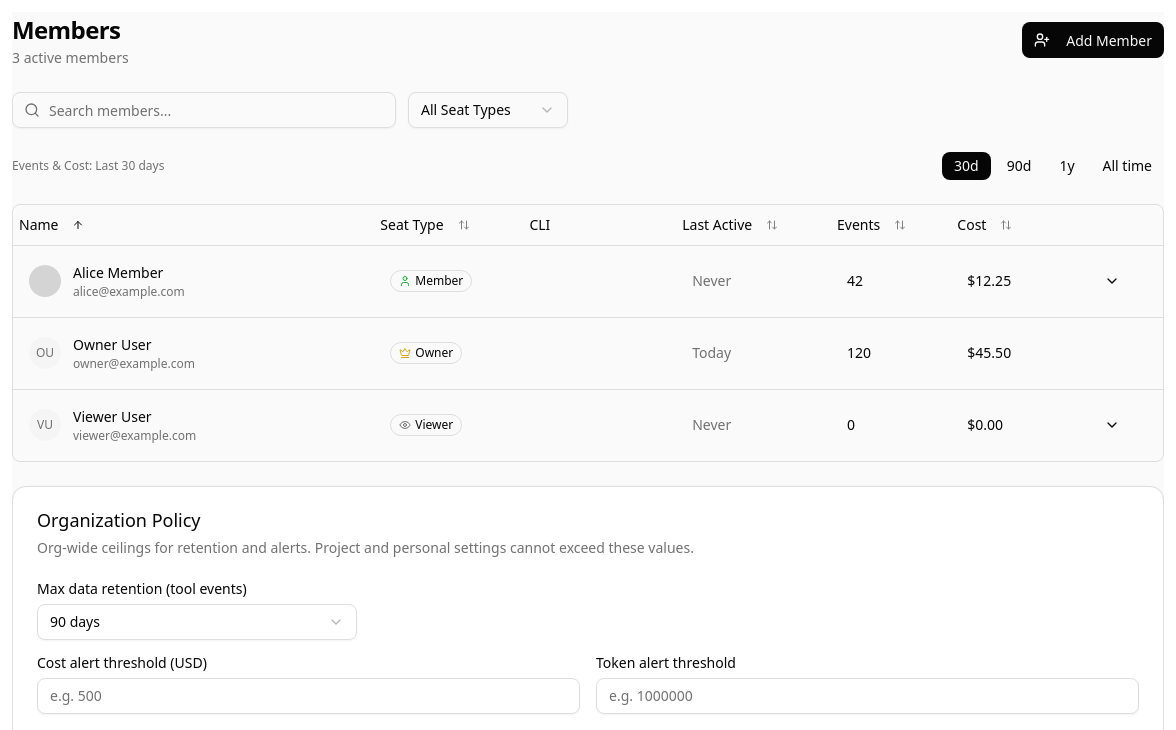
Test: Members › owner access › filters members by seat type
Click the dropdown "All Seat Types" at (488, 110), box [408,92,568,128]
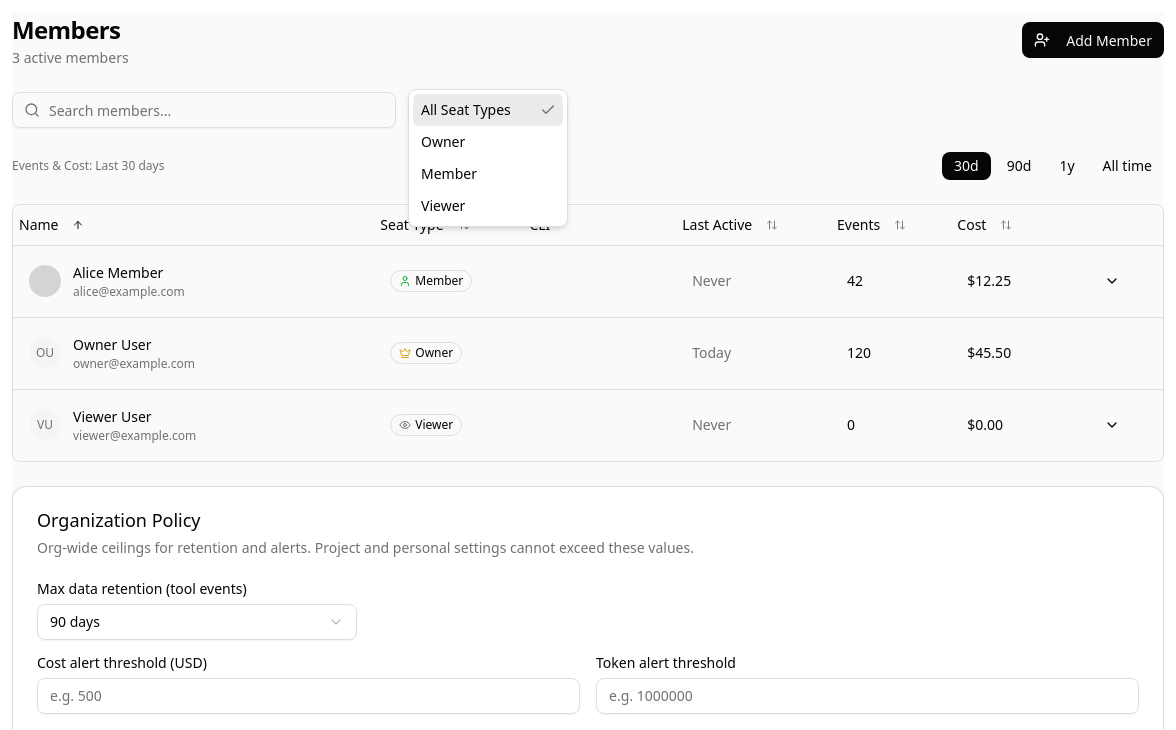
Click the option "Viewer" at (443, 206), box [421,196,465,215]
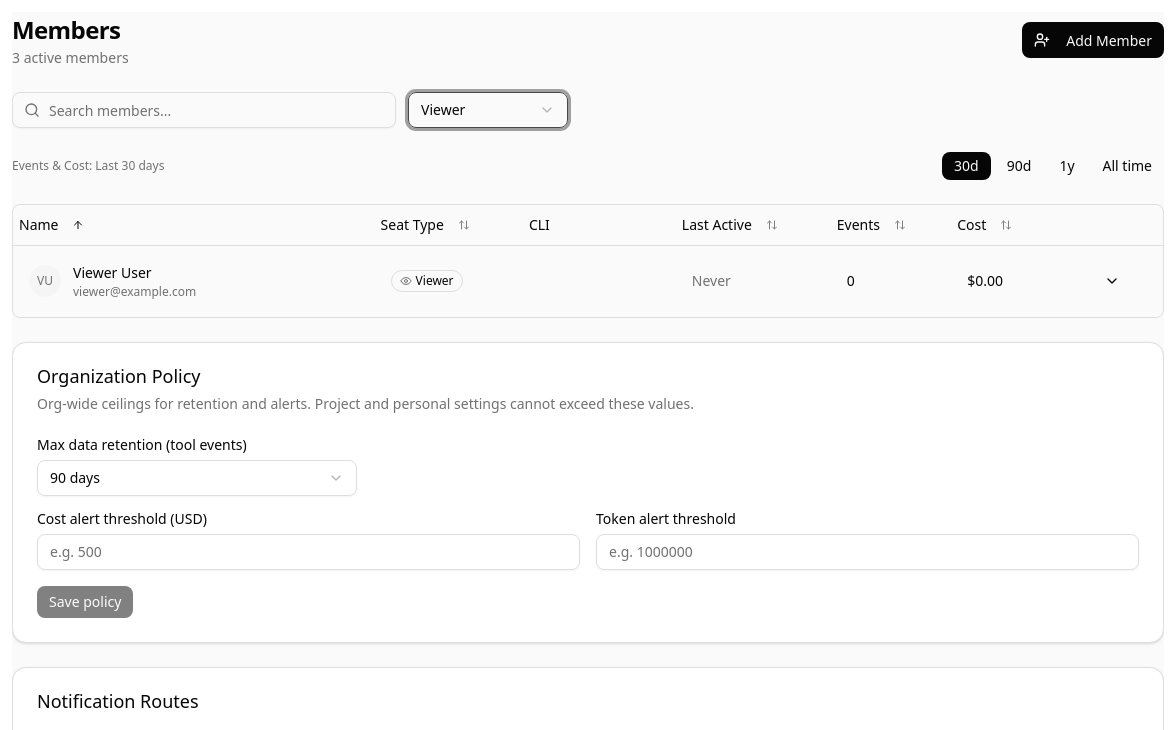
Expected: the text "Viewer User" is shown, [73,262,152,282]
Expected: the text "Alice Member" is gone
